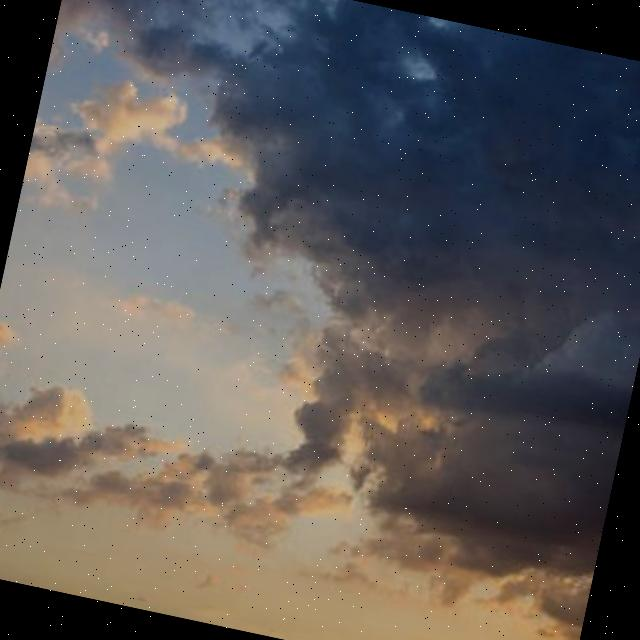Ns: (1, 1, 640, 636)
